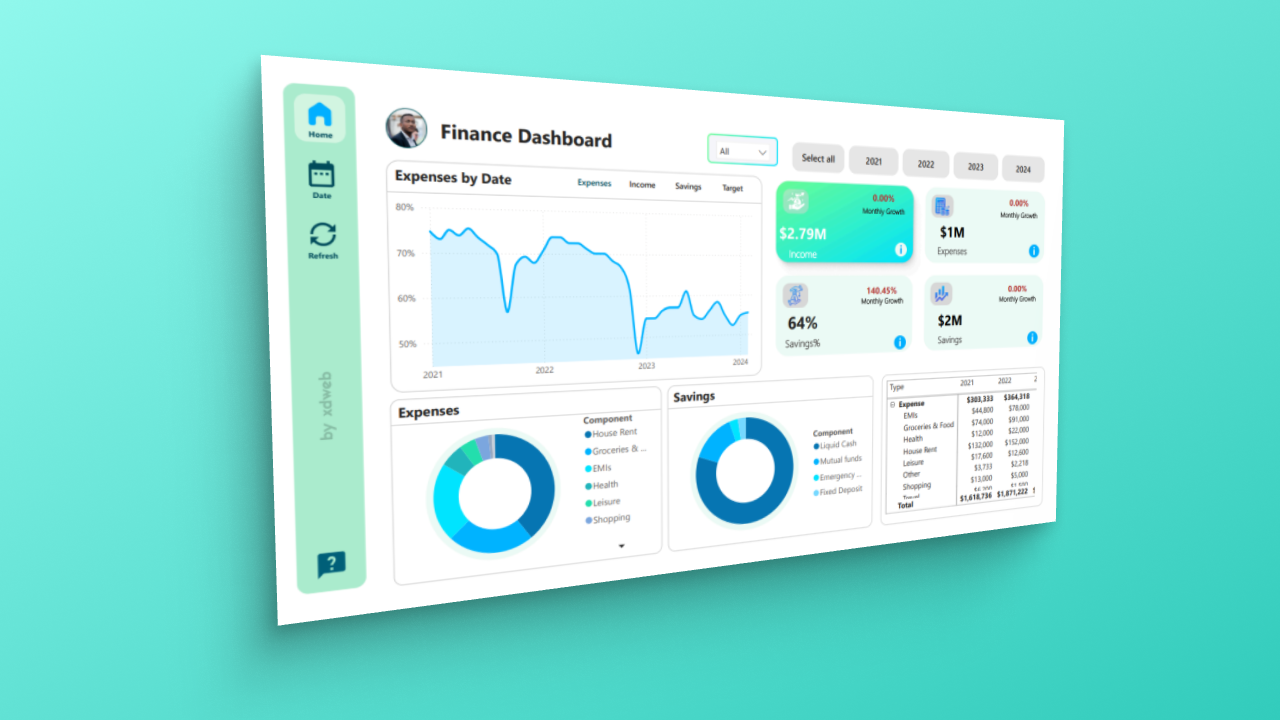

What the dashboard file says about the page in this screenshot:
{"tool":"powerbi","page":{"name":"Page 1","canvas":[1280,720],"ordinal":0},"visuals":[{"type":"donutChart","title":"Savings","fields":{"Y":["Dataset.Savings"],"Category":["Dataset.Component"]},"box":[536.2,437.5,360,252.5],"z":0},{"type":"card","fields":{"Values":["Dataset.Expenses"]},"box":[993.8,167.5,113.8,88.8],"z":1000},{"type":"areaChart","fields":{"Y":["Dataset.Line_Chart_Measures"],"Category":["Dataset.Date"]},"box":[146.4,120,547.3,307.3],"z":2000},{"type":"card","fields":{"Values":["Dataset.Savings"]},"box":[993.8,326.2,108.8,71.2],"z":3000},{"type":"card","fields":{"Values":["Dataset.Savings%"]},"box":[711.2,317.5,107.5,80],"z":4000},{"type":"advancedSlicerVisual","fields":{"Values":["Dataset.Year"]},"box":[753.8,31.2,468.8,58.8],"z":5000},{"type":"donutChart","title":"Expenses","fields":{"Category":["Dataset.Component"],"Y":["Dataset.Expenses"]},"box":[145,437.5,382.5,252.5],"z":6000},{"type":"pivotTable","fields":{"Values":["Dataset.Total_Values"],"Rows":["Dataset.Type","Dataset.Component"],"Columns":["Dataset.Year"]},"box":[913.8,437.5,343.8,252.5],"z":7000},{"type":"card","fields":{"Values":["Dataset.Income"]},"box":[716.4,180.9,97.3,74.5],"z":8000},{"type":"textbox","box":[210.9,55.5,300,46.4],"z":9000},{"type":"slicer","fields":{"Values":["Selected_Date.Month-yr"]},"box":[595.5,55.5,128.2,46.4],"z":10000},{"type":"advancedSlicerVisual","fields":{"Values":["Line_Selection_Table.Type"]},"box":[390.9,122.7,290,37.3],"z":11000},{"type":"card","fields":{"Values":["Dataset.Ex_ws_Sav"]},"box":[573.3,155,150,81.7],"z":12000},{"type":"card","fields":{"Values":["Dataset.Income_Monthly_Gr"]},"box":[882.9,135,61.8,26.4],"z":13000,"group":"g1"},{"type":"card","fields":{"Values":["Dataset.Savings_Monthly_Gr"]},"box":[1161.1,135.5,61.8,26.4],"z":13000,"group":"g3"},{"type":"card","fields":{"Values":["Dataset.Expenses_Monthly_Gr"]},"box":[1153.8,283.9,74.6,23.8],"z":13000,"group":"g4"},{"type":"card","fields":{"Values":["Dataset.Ex_ws_Sav"]},"box":[859.5,286.1,105,28.8],"z":13000,"group":"g2"},{"type":"group","id":"g1","title":"Group 1","box":[861.8,135,103.6,45.9],"z":14000},{"type":"group","id":"g2","title":"Group 1","box":[859.5,286.1,105.9,41.7],"z":15000},{"type":"textbox","box":[861.8,153.6,103.6,27.3],"z":15001,"group":"g1"},{"type":"textbox","box":[1140,154.1,103.6,27.3],"z":15001,"group":"g3"},{"type":"textbox","box":[861.8,300.5,103.6,27.3],"z":15001,"group":"g2"},{"type":"textbox","box":[1140,300.5,103.6,27.3],"z":15001,"group":"g4"},{"type":"group","id":"g3","title":"Group 1","box":[1140,135.5,103.6,45.5],"z":16000},{"type":"group","id":"g4","title":"Group 1","box":[1140,283.9,103.6,43.8],"z":17000}]}

Visuals, with their boxes in screenshot pixels (x1, y1, x2, y2), scaled from the page's 1280x720 canvas onto the 1280x720 screenshot:
"Savings" donutChart: crop(536, 438, 896, 690)
card - Dataset.Expenses: crop(994, 168, 1108, 256)
areaChart - Dataset.Line_Chart_Measures x Dataset.Date: crop(146, 120, 694, 427)
card - Dataset.Savings: crop(994, 326, 1103, 397)
card - Dataset.Savings%: crop(711, 318, 819, 398)
advancedSlicerVisual - Dataset.Year: crop(754, 31, 1223, 90)
"Expenses" donutChart: crop(145, 438, 528, 690)
pivotTable - Dataset.Total_Values x Dataset.Type: crop(914, 438, 1258, 690)
card - Dataset.Income: crop(716, 181, 814, 255)
textbox: crop(211, 56, 511, 102)
slicer - Selected_Date.Month-yr: crop(596, 56, 724, 102)
advancedSlicerVisual - Line_Selection_Table.Type: crop(391, 123, 681, 160)
card - Dataset.Ex_ws_Sav: crop(573, 155, 723, 237)
card - Dataset.Income_Monthly_Gr: crop(883, 135, 945, 161)
card - Dataset.Savings_Monthly_Gr: crop(1161, 136, 1223, 162)
card - Dataset.Expenses_Monthly_Gr: crop(1154, 284, 1228, 308)
card - Dataset.Ex_ws_Sav: crop(860, 286, 964, 315)
"Group 1" group: crop(862, 135, 965, 181)
"Group 1" group: crop(860, 286, 965, 328)
textbox: crop(862, 154, 965, 181)
textbox: crop(1140, 154, 1244, 181)
textbox: crop(862, 300, 965, 328)
textbox: crop(1140, 300, 1244, 328)
"Group 1" group: crop(1140, 136, 1244, 181)
"Group 1" group: crop(1140, 284, 1244, 328)
